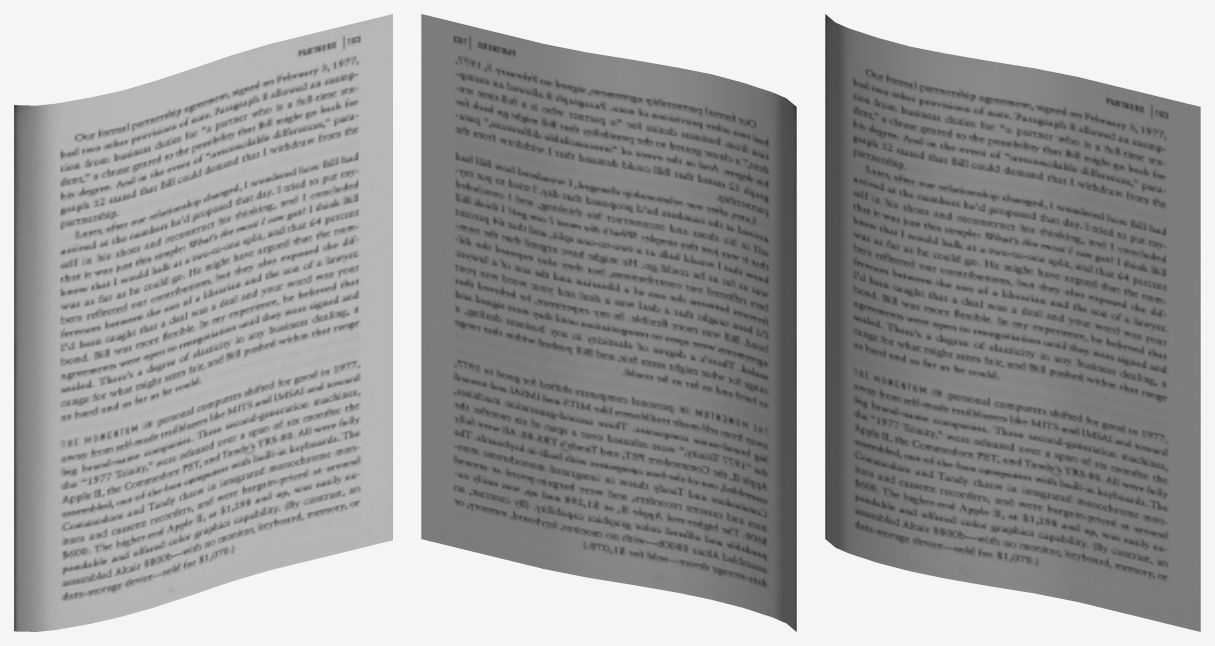
File: MeshBook_30_0_GeomSubset_2.obj
3 renders of one model, left to right at view 1: azimuth 30°, elevation 25°; view 2: azimuth 150°, elevation 25°; view 3: azimuth 330°, elevation 25°, orthographic.
Visible parts, largest first — view 1: MeshBook_30_0_GeomSubset_2; view 2: MeshBook_30_0_GeomSubset_2; view 3: MeshBook_30_0_GeomSubset_2.
Part boxes in pixels (box(x1,y1,x2,y2)): MeshBook_30_0_GeomSubset_2: box(14, 14, 392, 631); MeshBook_30_0_GeomSubset_2: box(421, 14, 796, 631); MeshBook_30_0_GeomSubset_2: box(825, 14, 1200, 631).
Size of the model in its own units: 0.1625 by 0.2165 by 0.00908.
